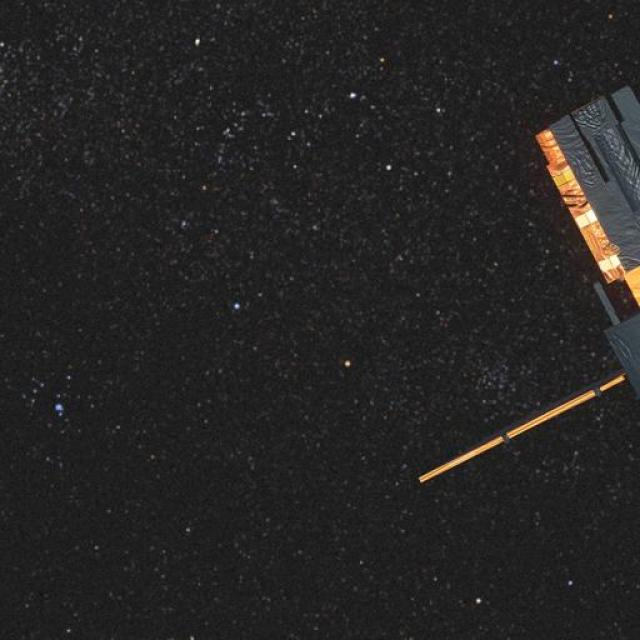soho: (400, 62, 640, 492)
